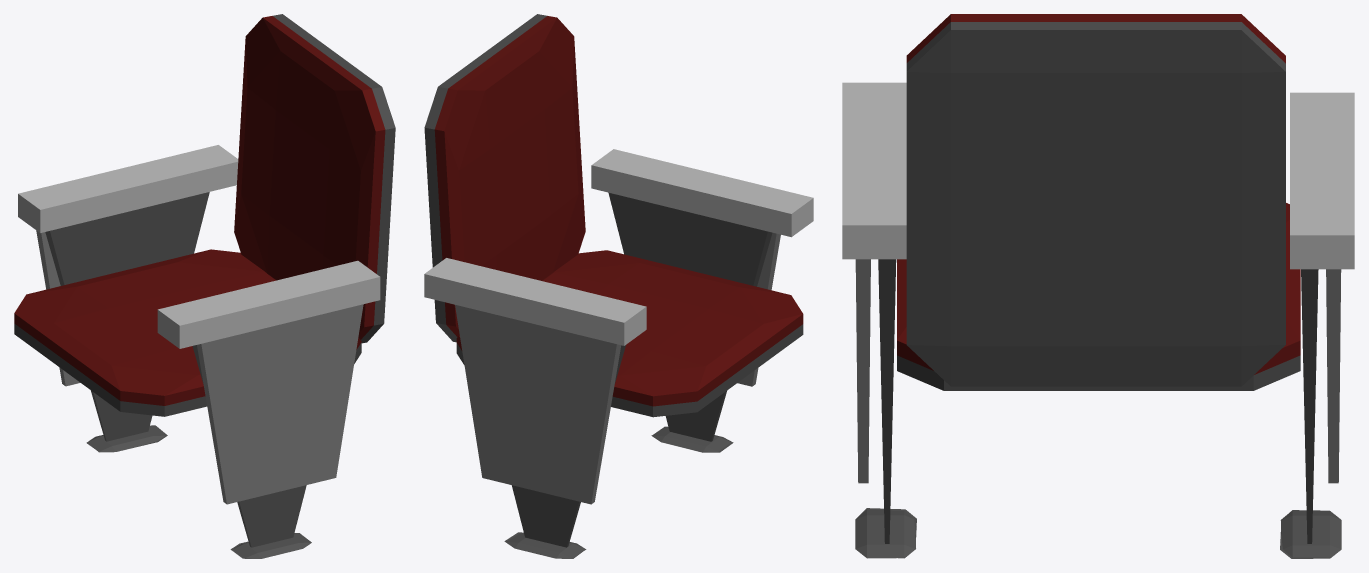
Rendered from Esports_Chair.fbx.
The picture shows the model from 3 angles, left to right: view 1: azimuth 30°, elevation 25°; view 2: azimuth 150°, elevation 25°; view 3: azimuth 270°, elevation 25°; orthographic projection. The views are drawn at different scales.
Visible parts, largest first — view 1: Seat.002, Side_of_Chair, Seat, Side_of_Chair_Metal.001, Cube, Cube.001, Side_of_Chair_Metal, Chair_to_Grounded, Chair_to_Grounded.001, Side_of_Chair.001; view 2: Seat.002, Side_of_Chair.001, Seat, Side_of_Chair_Metal, Cube, Cube.001, Side_of_Chair_Metal.001, Chair_to_Grounded.001, Chair_to_Grounded, Side_of_Chair; view 3: Seat.002, Cube, Cube.001, Seat, Side_of_Chair_Metal, Side_of_Chair_Metal.001, Side_of_Chair, Side_of_Chair.001, Chair_to_Grounded, Chair_to_Grounded.001.
Boxes of the visible parts, left/top/right/bottom form: Seat.002: left=234, top=14, right=395, bottom=343; Side_of_Chair: left=197, top=304, right=363, bottom=504; Seat: left=14, top=249, right=361, bottom=416; Side_of_Chair_Metal.001: left=45, top=192, right=209, bottom=441; Cube: left=157, top=260, right=380, bottom=348; Cube.001: left=18, top=145, right=238, bottom=232; Side_of_Chair_Metal: left=192, top=345, right=306, bottom=547; Chair_to_Grounded: left=230, top=533, right=311, bottom=558; Chair_to_Grounded.001: left=86, top=425, right=167, bottom=452; Side_of_Chair.001: left=36, top=230, right=80, bottom=386; Seat.002: left=424, top=14, right=585, bottom=342; Side_of_Chair.001: left=455, top=305, right=621, bottom=504; Seat: left=456, top=250, right=803, bottom=417; Side_of_Chair_Metal: left=608, top=192, right=772, bottom=441; Cube: left=591, top=149, right=813, bottom=237; Cube.001: left=424, top=258, right=646, bottom=345; Side_of_Chair_Metal.001: left=512, top=345, right=625, bottom=547; Chair_to_Grounded.001: left=504, top=532, right=586, bottom=558; Chair_to_Grounded: left=651, top=426, right=733, bottom=452; Side_of_Chair: left=737, top=233, right=780, bottom=386; Seat.002: left=906, top=14, right=1285, bottom=386; Cube: left=842, top=82, right=906, bottom=259; Cube.001: left=1290, top=92, right=1354, bottom=269; Seat: left=897, top=203, right=1300, bottom=390; Side_of_Chair_Metal: left=878, top=259, right=896, bottom=543; Side_of_Chair_Metal.001: left=1301, top=269, right=1318, bottom=543; Side_of_Chair: left=855, top=259, right=870, bottom=483; Side_of_Chair.001: left=1326, top=269, right=1341, bottom=483; Chair_to_Grounded: left=855, top=508, right=916, bottom=558; Chair_to_Grounded.001: left=1280, top=510, right=1341, bottom=558.
Bounding box in the file's own units: 308 × 460 × 355.
